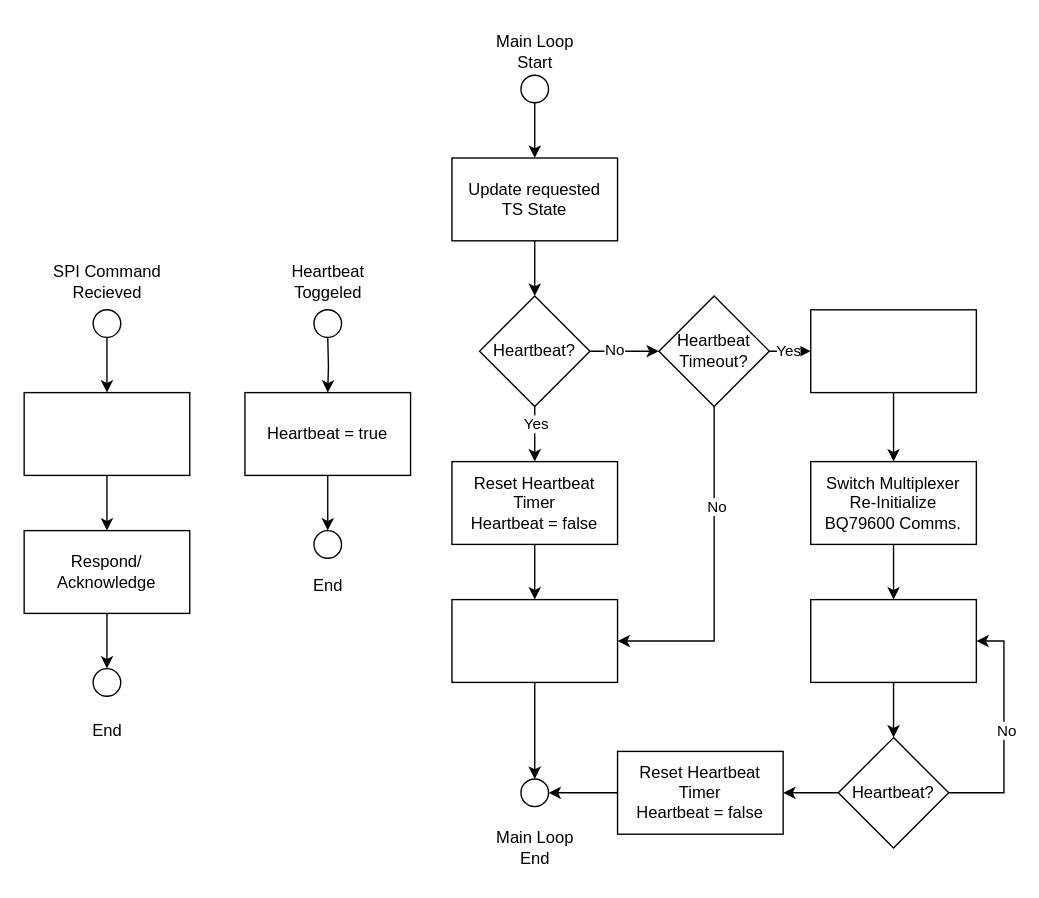
Some shapes in this 1039 by 898 pixel diagram are drawn without their labels. Here are the shapes that lost their labels. From the top down, the centre of each, then its label:
point 892,350: Signal AMS FAULT Open AIRs
point 106,433: Update Internal States
point 534,640: Handle TS
point 892,640: Read Voltages and Temperatures (Can be read through Debugger)
